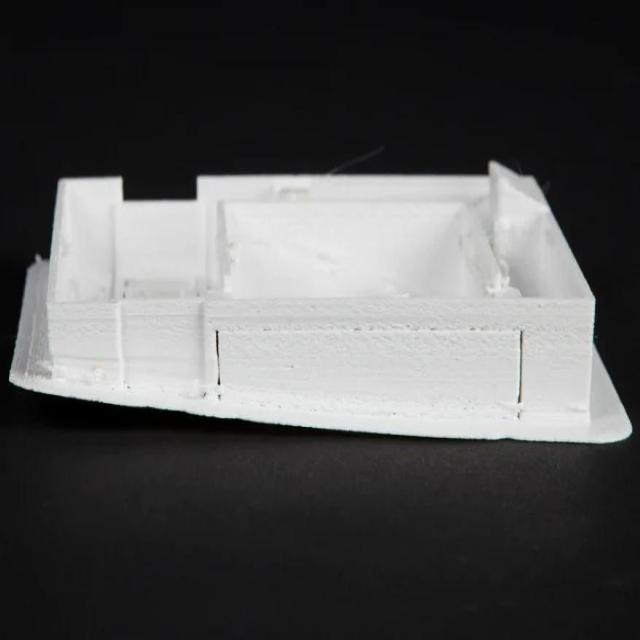cracks: (204, 321, 230, 406), (510, 319, 526, 426)
